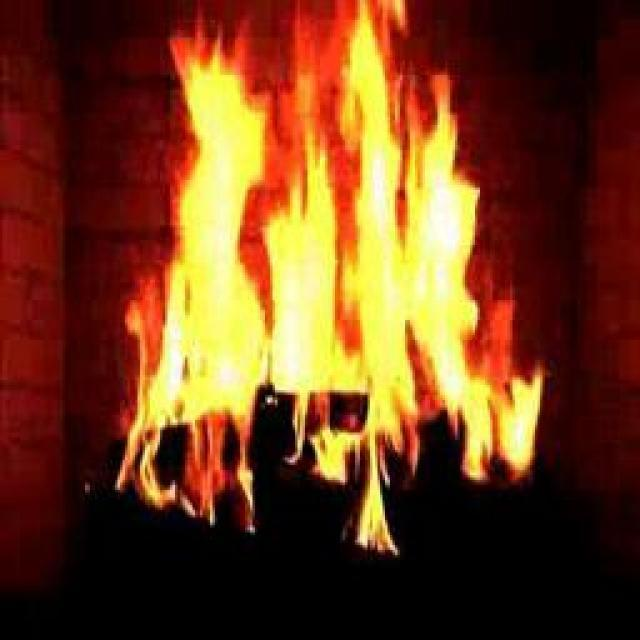Fire: (161, 42, 463, 448)
